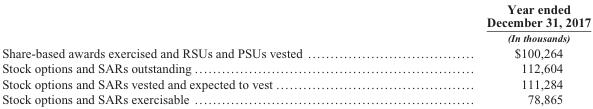table: (1, 1, 590, 105)
table column: (1, 1, 393, 105), (393, 1, 590, 105)
table column header: (1, 1, 590, 44)
table row: (1, 1, 590, 44), (1, 44, 590, 60), (1, 75, 590, 91), (1, 60, 590, 75), (1, 91, 590, 105)
